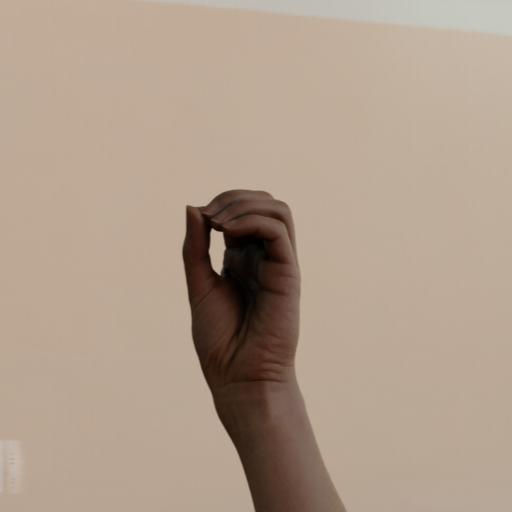O: (159, 162, 325, 398)
